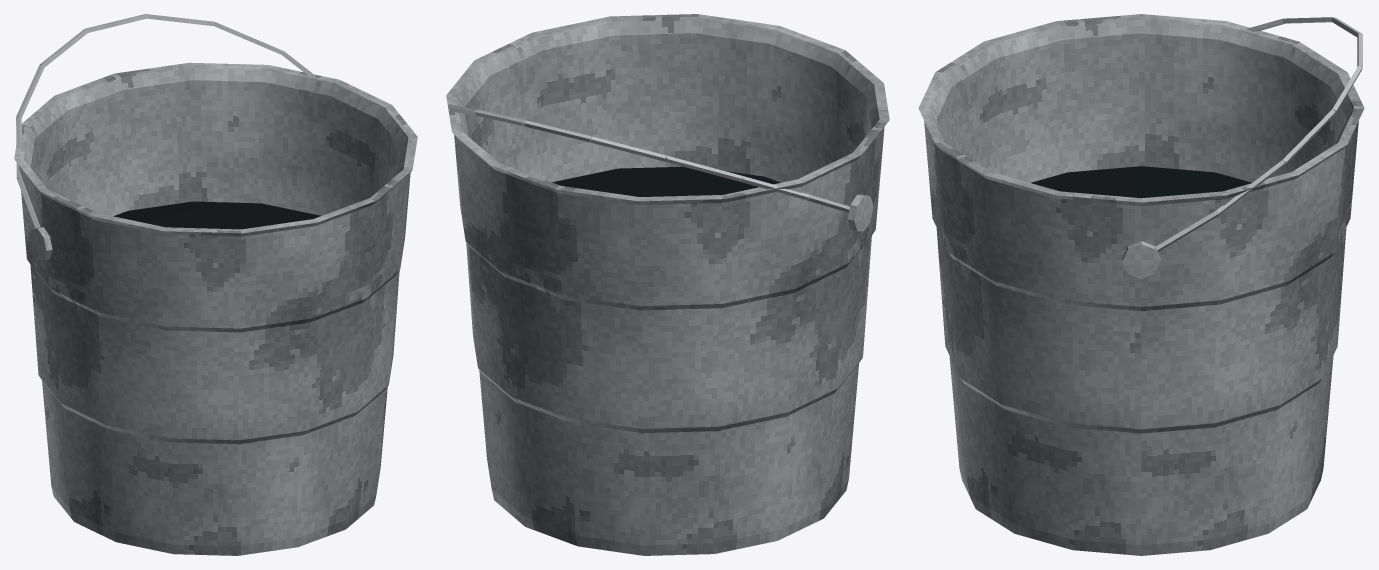
The model's file is item_bucket.glb.
3 views of the same model, side by side, from view 1: azimuth 30°, elevation 25°; view 2: azimuth 150°, elevation 25°; view 3: azimuth 270°, elevation 25° (orthographic). The views are drawn at different scales.
Parts seen in each view (by area): view 1: bucket; view 2: bucket; view 3: bucket.
Part boxes in pixels (box(x1,y1,x2,y2)): bucket: box(14, 14, 417, 555); bucket: box(446, 14, 889, 555); bucket: box(918, 14, 1364, 555).
Bounding box in the file's own units: 0.352 × 0.3706 × 0.348.
3 materials, 3 textured.
